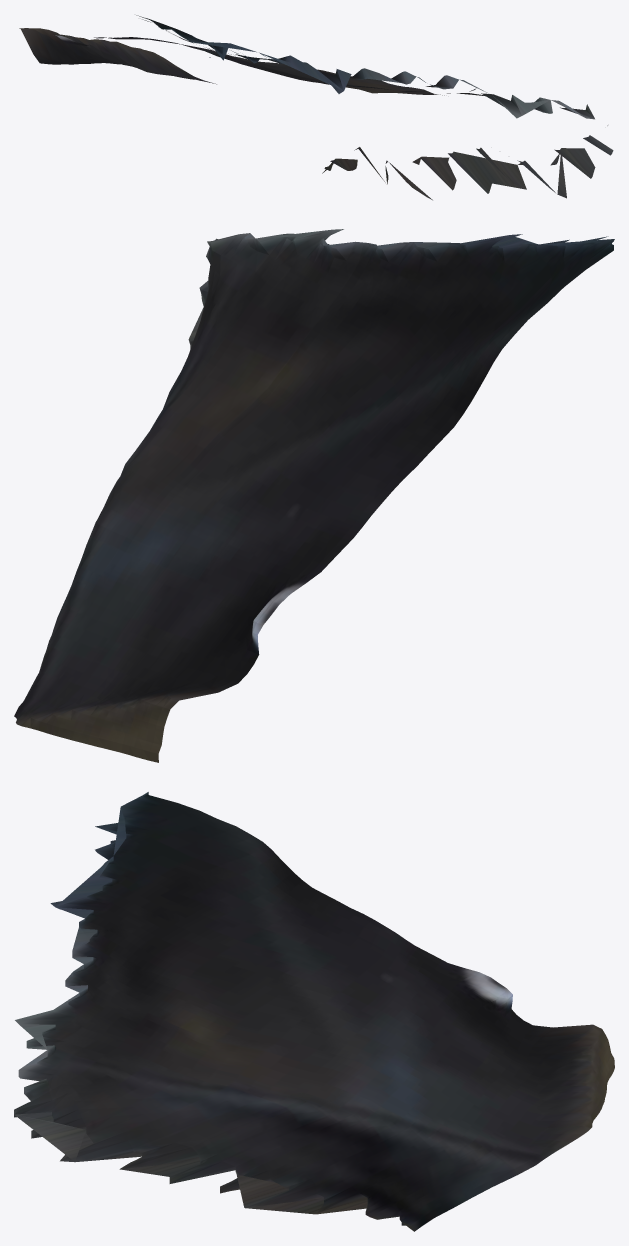
File: observed-surface.glb
The picture shows the model from 3 angles, top to bottom: view 1: azimuth 30°, elevation 25°; view 2: azimuth 150°, elevation 25°; view 3: azimuth 270°, elevation 25°; orthographic projection. The views are drawn at different scales.
Parts seen in each view (by area): view 1: geometry_0; view 2: geometry_0; view 3: geometry_0.
Part boxes in pixels (x1=…): geometry_0: x1=19, y1=15, x2=613, y2=200; geometry_0: x1=14, y1=229, x2=614, y2=762; geometry_0: x1=14, y1=792, x2=614, y2=1231.
Size of the model in its own units: 0.5721 by 0.47 by 0.8425.
1 material, 1 textured.
